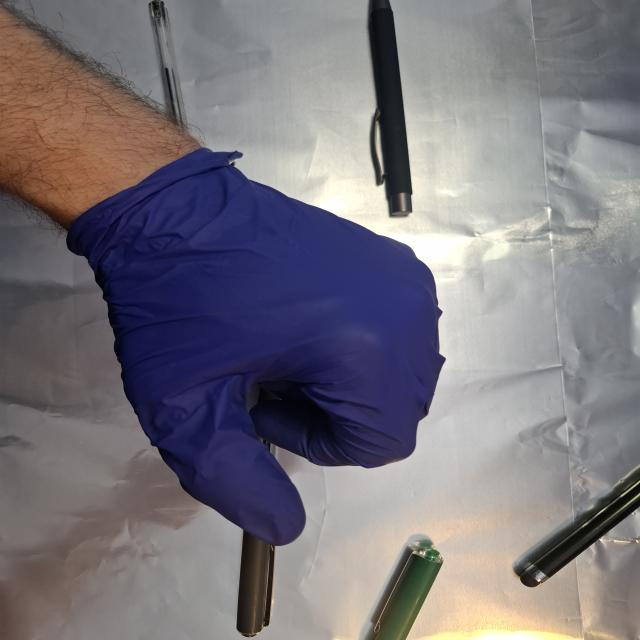glove_on: (69, 145, 453, 550)
